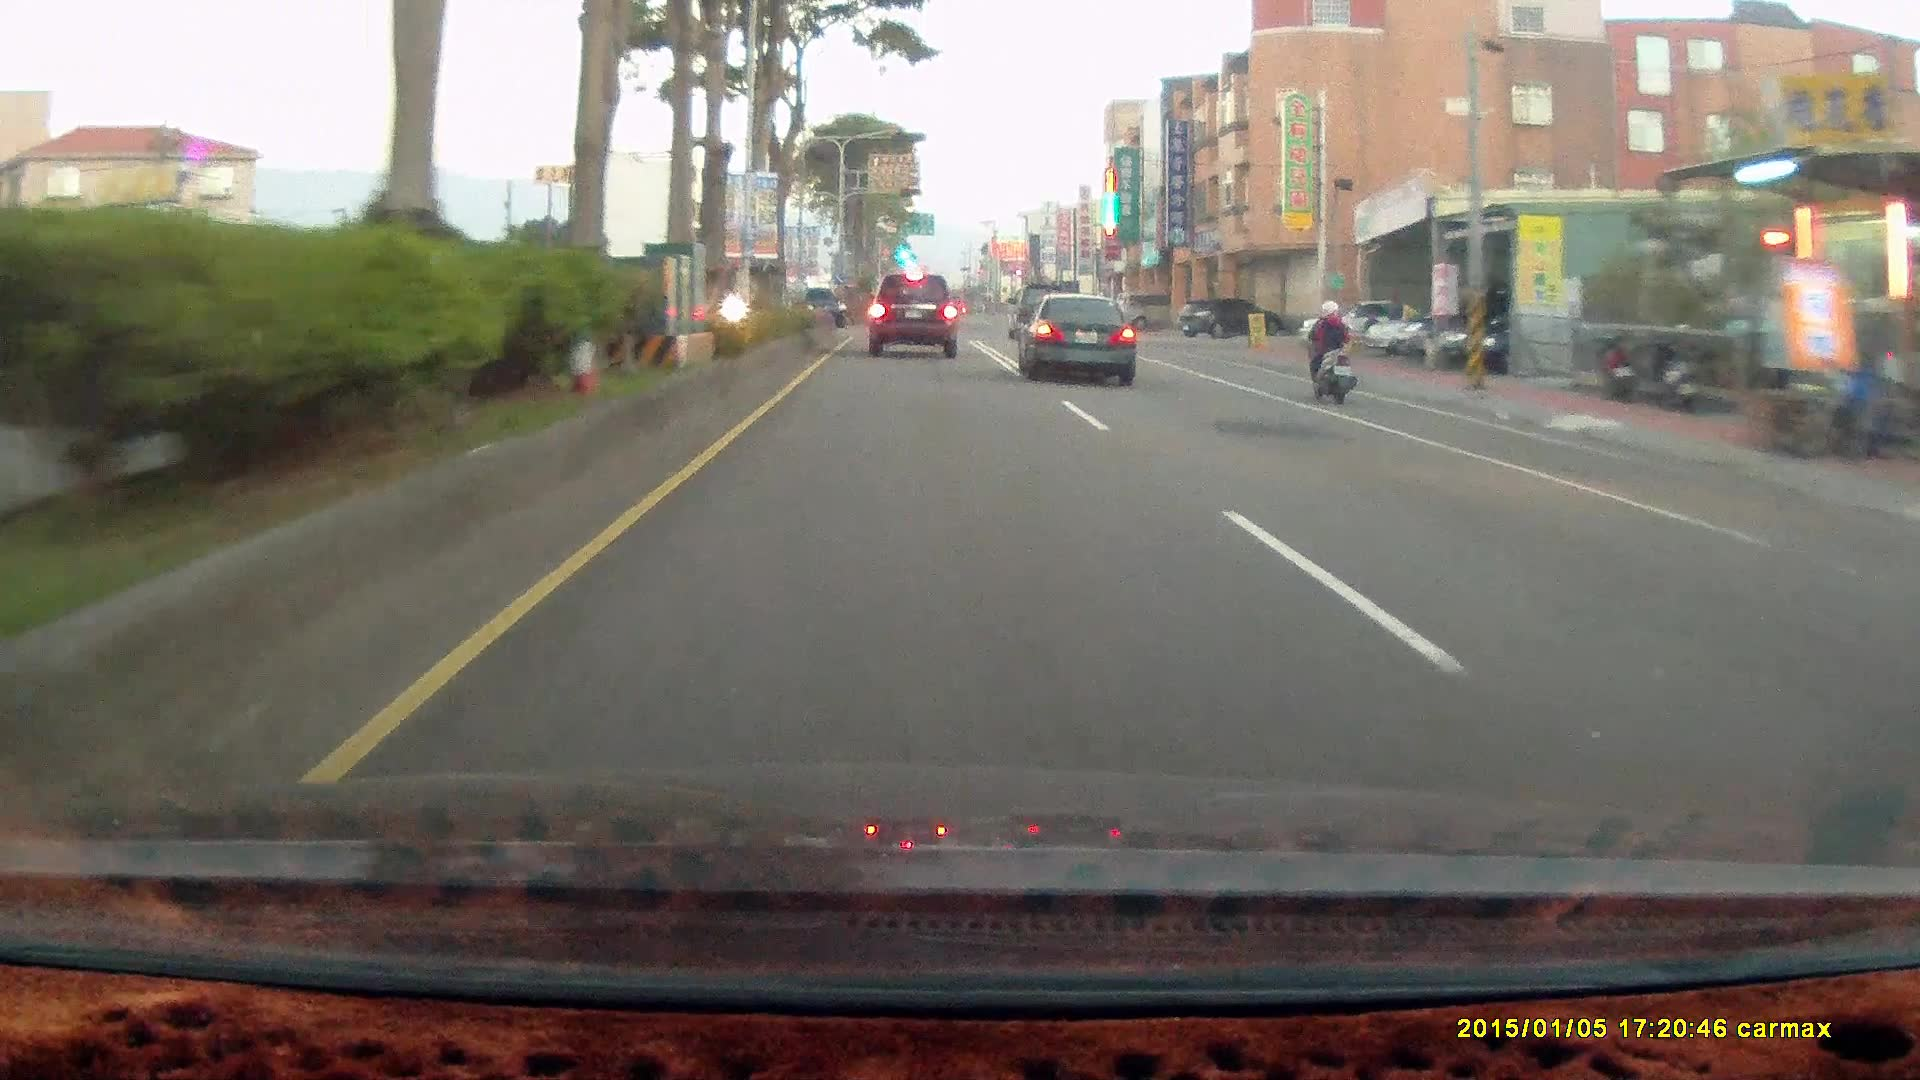rider: (1294, 289, 1367, 414), (1299, 294, 1357, 401)
vehicle: (1021, 291, 1143, 386), (1013, 292, 1134, 384), (1459, 303, 1610, 374), (871, 269, 965, 357), (1399, 293, 1519, 359), (867, 272, 958, 357), (1294, 296, 1437, 350), (1366, 304, 1468, 352), (1178, 296, 1285, 337), (1179, 298, 1274, 343), (1117, 289, 1195, 329), (792, 285, 848, 325)
